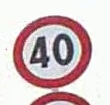limite 40: (12, 12, 91, 89)
